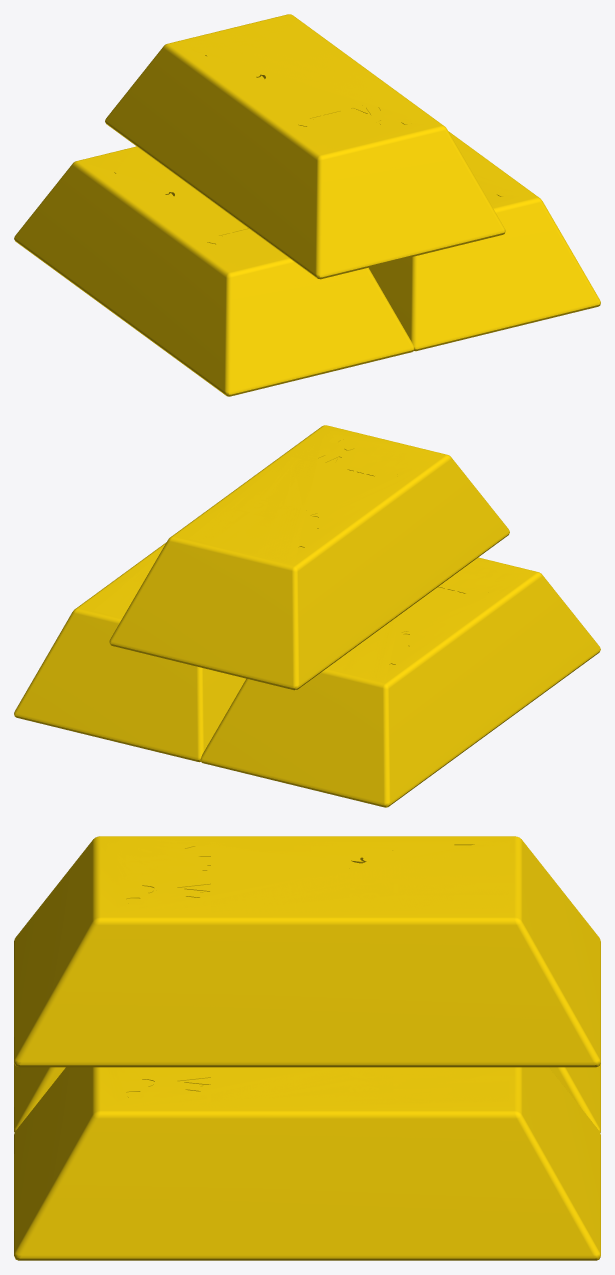
File: Gold .fbx
3 views of the same model, one above another, from view 1: azimuth 30°, elevation 25°; view 2: azimuth 150°, elevation 25°; view 3: azimuth 270°, elevation 25° (orthographic). The views are drawn at different scales.
Parts seen in each view (by area): view 1: pCube2.002, pCube2, pCube2.001; view 2: pCube2.002, pCube2, pCube2.001; view 3: pCube2.002, pCube2.001, pCube2.
Boxes of the visible parts, x1,y1,x2,y2 form: pCube2.002: (105,14,505,279); pCube2: (14,146,414,396); pCube2.001: (369,131,600,351); pCube2.002: (109,425,509,690); pCube2: (200,557,600,807); pCube2.001: (14,542,245,762); pCube2.002: (14,836,600,1067); pCube2.001: (14,1067,600,1260); pCube2: (14,1063,600,1132).
Bounding box in the file's own units: 116 × 55.93 × 115.
